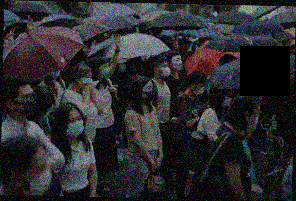with_mask: (25, 160, 54, 196), (16, 90, 38, 116), (65, 113, 85, 138), (249, 108, 262, 131), (142, 84, 156, 102), (172, 56, 185, 73), (80, 73, 93, 89), (159, 63, 172, 79), (99, 63, 111, 79), (222, 92, 233, 108), (194, 82, 206, 96)
